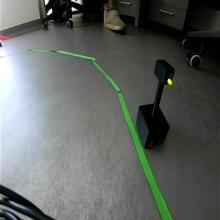green: (154, 59, 176, 86)
